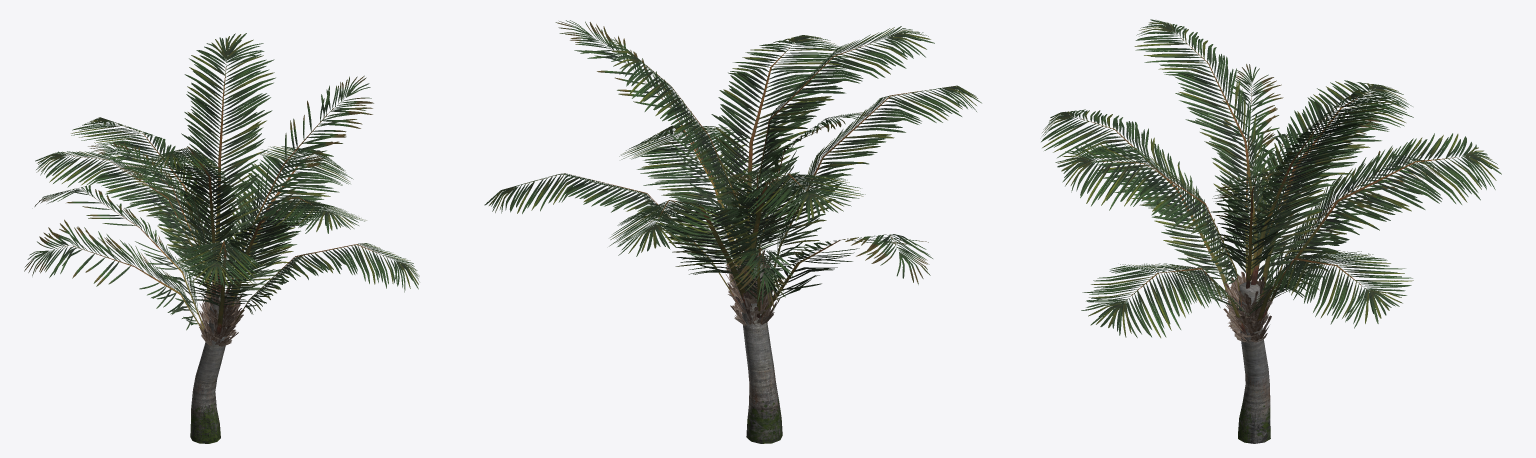
File: MB_Palm_Miami_05.fbx
3 renders of one model, left to right at view 1: azimuth 30°, elevation 25°; view 2: azimuth 150°, elevation 25°; view 3: azimuth 270°, elevation 25°, orthographic. The views are drawn at different scales.
Parts seen in each view (by area): view 1: MB_Palm_Miami_05_LOD0; view 2: MB_Palm_Miami_05_LOD0; view 3: MB_Palm_Miami_05_LOD0.
Part boxes in pixels (x1=…): MB_Palm_Miami_05_LOD0: x1=24, y1=33, x2=419, y2=443; MB_Palm_Miami_05_LOD0: x1=484, y1=20, x2=981, y2=443; MB_Palm_Miami_05_LOD0: x1=1041, y1=19, x2=1501, y2=443.
Size of what is drawn, in the model's own units: 417 by 400 by 446.
